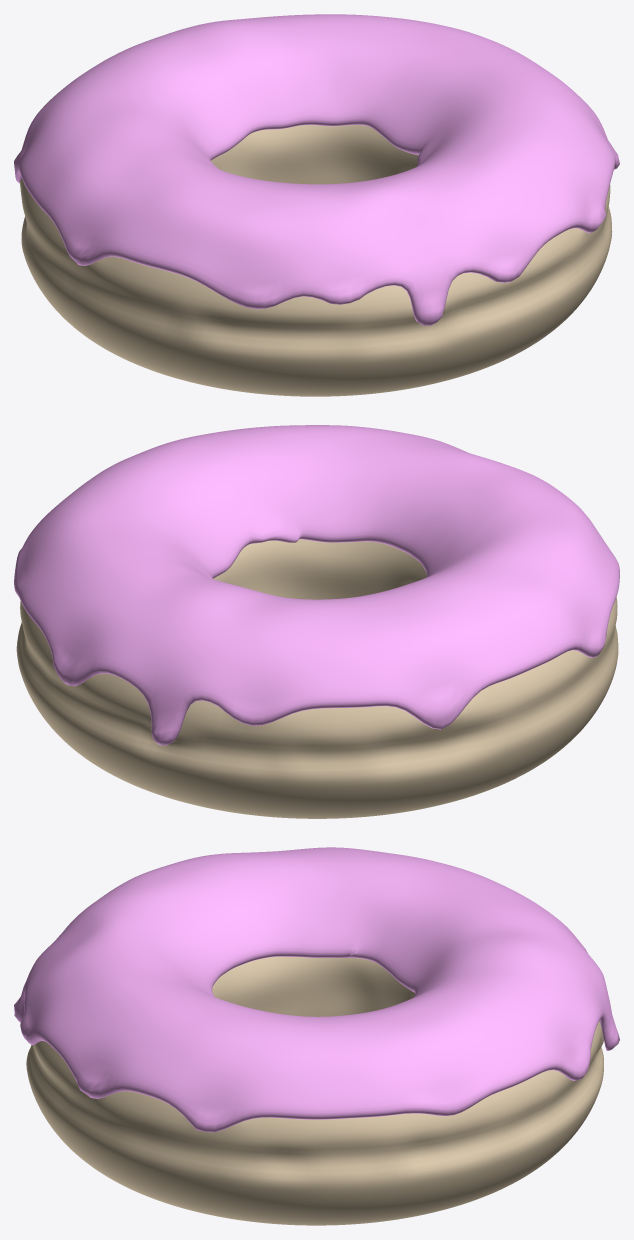
Rendered from donut.glb.
3 renders of one model, top to bottom at view 1: azimuth 30°, elevation 25°; view 2: azimuth 150°, elevation 25°; view 3: azimuth 270°, elevation 25°, orthographic. The views are drawn at different scales.
Parts seen in each view (by area): view 1: Icing, Donut; view 2: Icing, Donut; view 3: Icing, Donut.
Boxes of the visible parts, x1,y1,x2,y2 form: Icing: (14,14,619,325); Donut: (19,125,612,396); Icing: (14,425,619,745); Donut: (16,539,618,818); Icing: (14,847,619,1132); Donut: (26,956,603,1225).
Size of what is drawn, in the model's own units: 0.1477 by 0.0541 by 0.1523.
